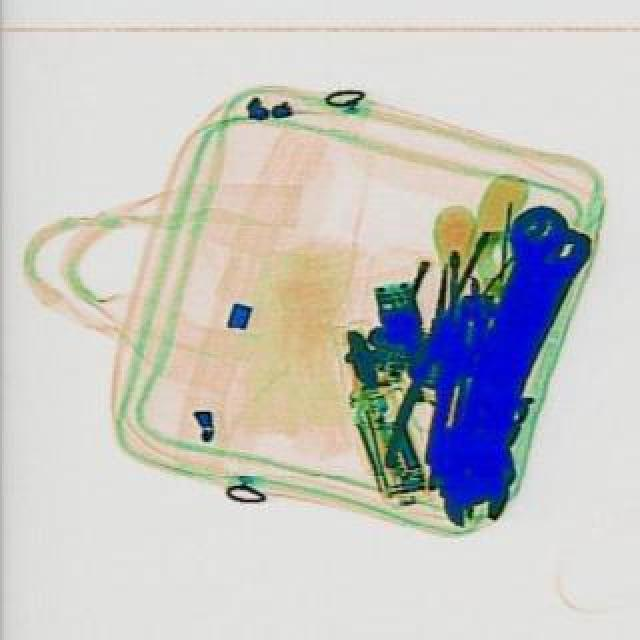scissors: (430, 198, 576, 534)
